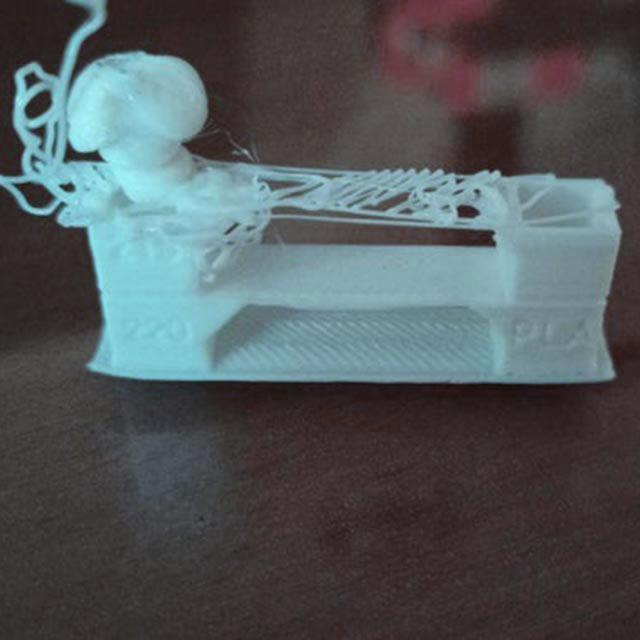spaghetti: (0, 0, 124, 235), (236, 161, 590, 230), (198, 220, 265, 295)
